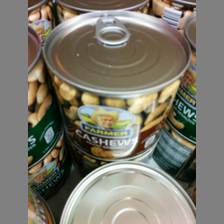nuts: (41, 10, 191, 160)
